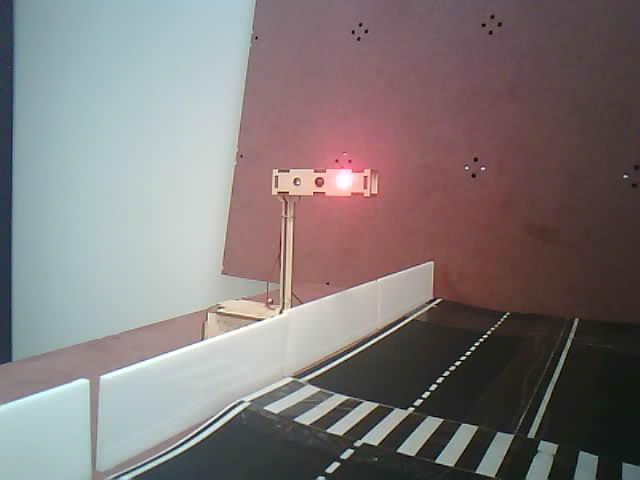red: (236, 369, 639, 479), (256, 149, 387, 318)
